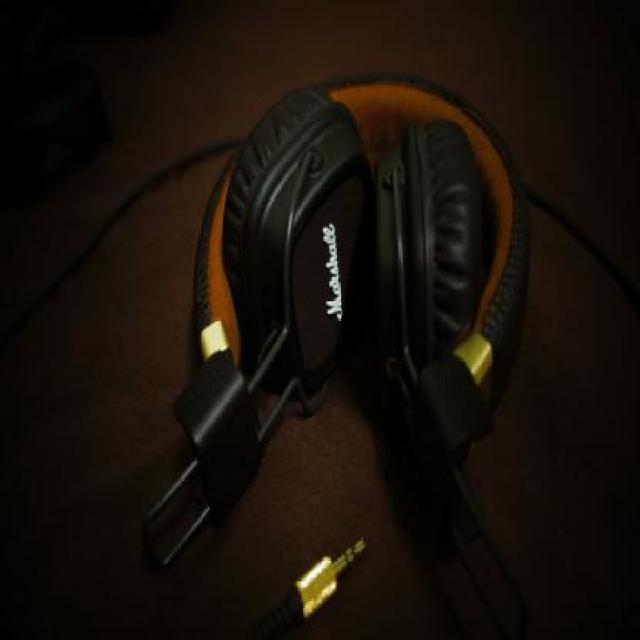earphone: (142, 60, 536, 527)
